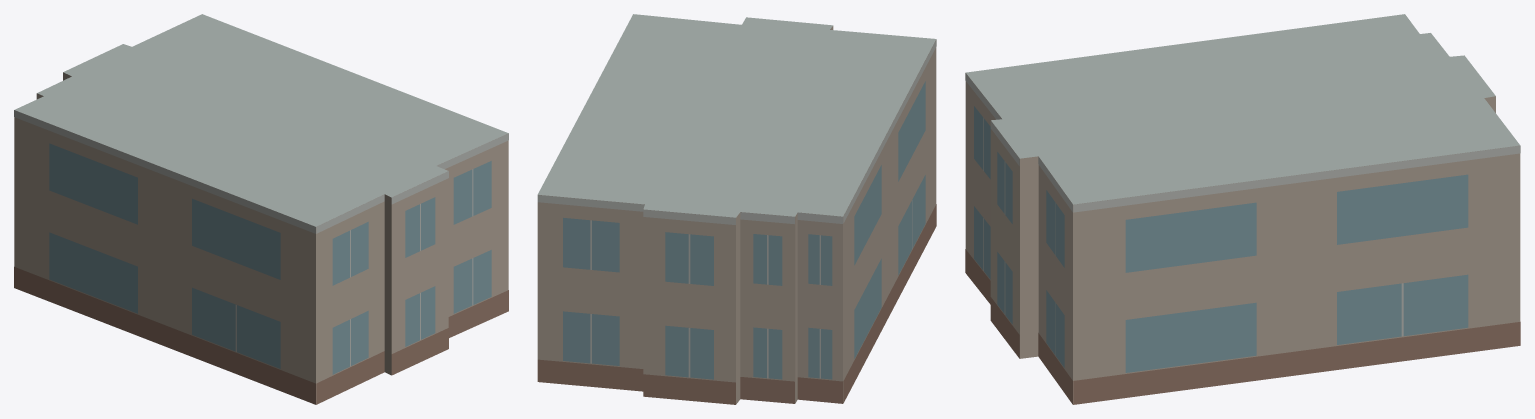
File: survey-upis-32703784.glb
The picture shows the model from 3 angles, left to right: view 1: azimuth 30°, elevation 25°; view 2: azimuth 150°, elevation 25°; view 3: azimuth 270°, elevation 25°; orthographic projection. The views are drawn at different scales.
Visible parts, largest first — view 1: survey-upis-32703784.tmp; view 2: survey-upis-32703784.tmp; view 3: survey-upis-32703784.tmp.
Boxes of the visible parts, x1=… form: survey-upis-32703784.tmp: x1=14, y1=14, x2=508, y2=404; survey-upis-32703784.tmp: x1=537, y1=14, x2=936, y2=404; survey-upis-32703784.tmp: x1=965, y1=14, x2=1520, y2=404.
Size of the model in its own units: 12.46 by 6.1 by 15.33.
